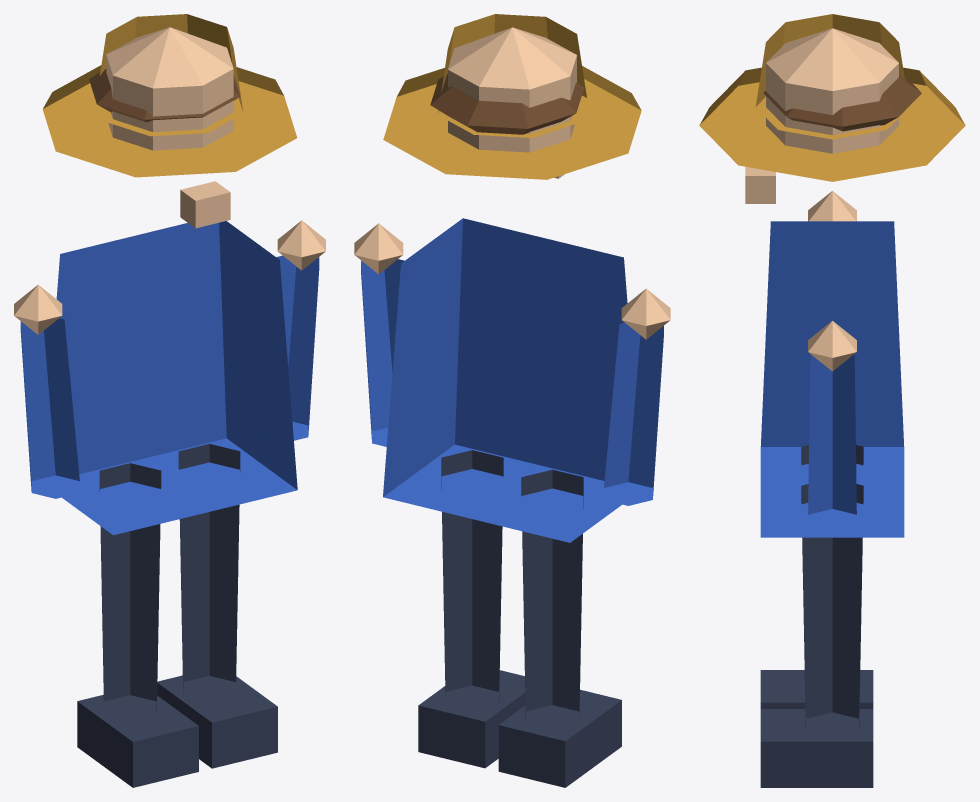
Rendered from character_farmer.glb.
3 views of the same model, side by side, from view 1: azimuth 30°, elevation 25°; view 2: azimuth 150°, elevation 25°; view 3: azimuth 270°, elevation 25° (orthographic).
Visible parts, largest first — view 1: character_farmer; view 2: character_farmer; view 3: character_farmer.
Part boxes in pixels (x1=…): character_farmer: x1=14, y1=14, x2=325, y2=787; character_farmer: x1=354, y1=14, x2=670, y2=787; character_farmer: x1=699, y1=14, x2=965, y2=787.
Size of the model in its own units: 0.7282 by 1.6 by 0.5333.
